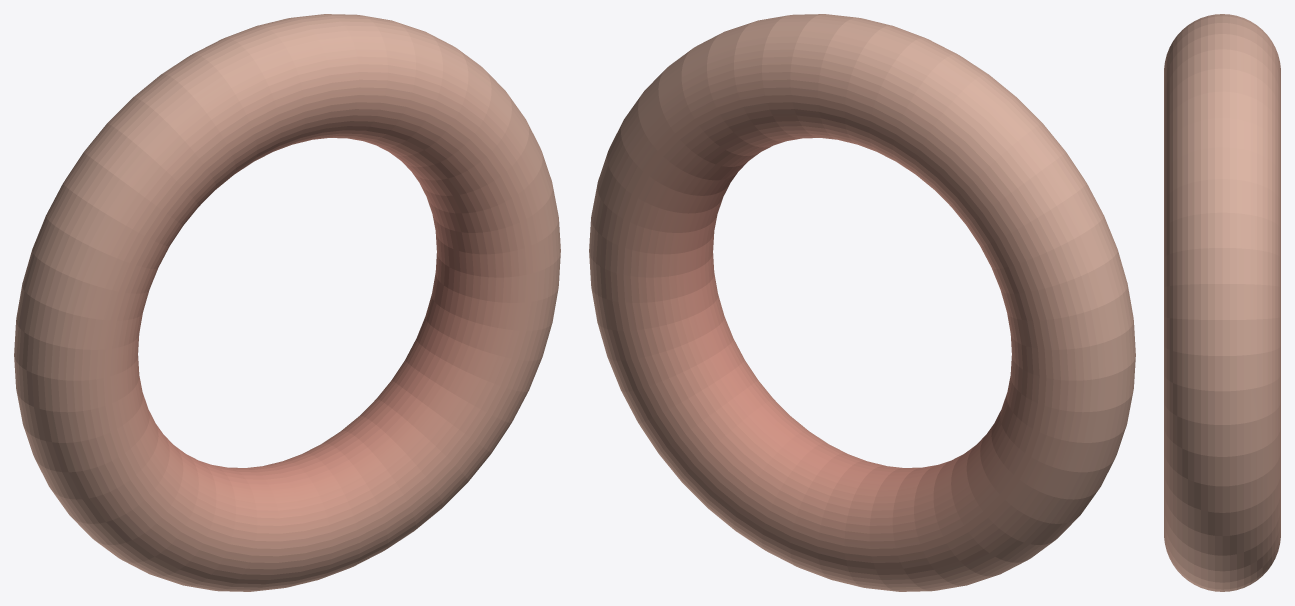
The picture shows the model from 3 angles, left to right: view 1: azimuth 30°, elevation 25°; view 2: azimuth 150°, elevation 25°; view 3: azimuth 270°, elevation 25°; orthographic projection. The views are drawn at different scales.
Visible parts, largest first — view 1: world; view 2: world; view 3: world.
Boxes of the visible parts, <box> form: world: <box>14,14,560,591</box>; world: <box>589,14,1135,591</box>; world: <box>1164,14,1280,591</box>.
Size of the model in its own units: 30.93 by 30.87 by 6.25.
